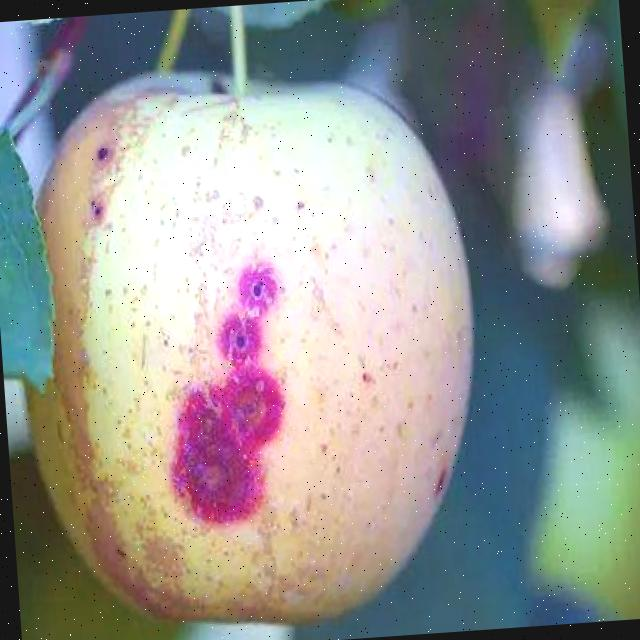rotten apple: (0, 8, 533, 640)
